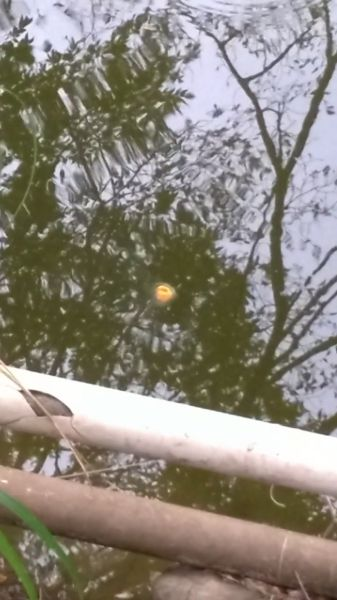eggs: (150, 281, 176, 304)
